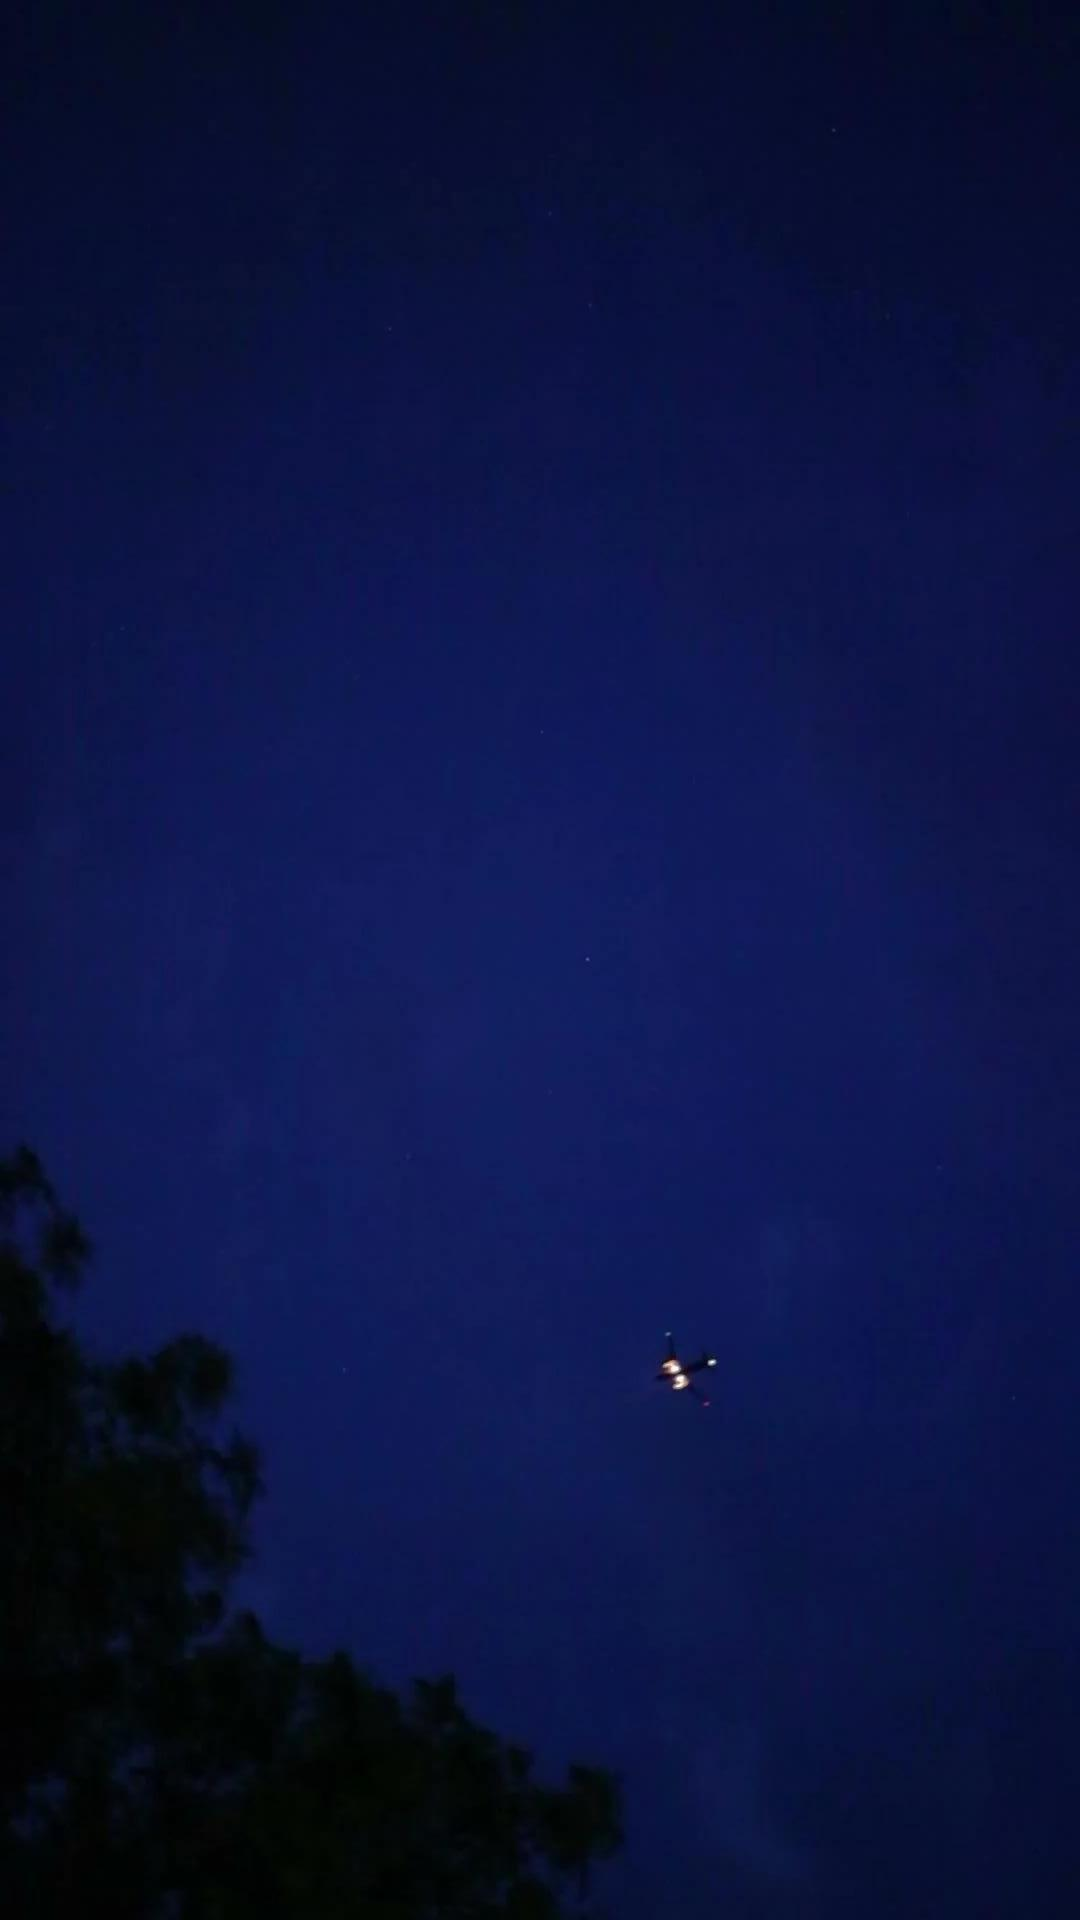Plane: (640, 1324, 733, 1418)
